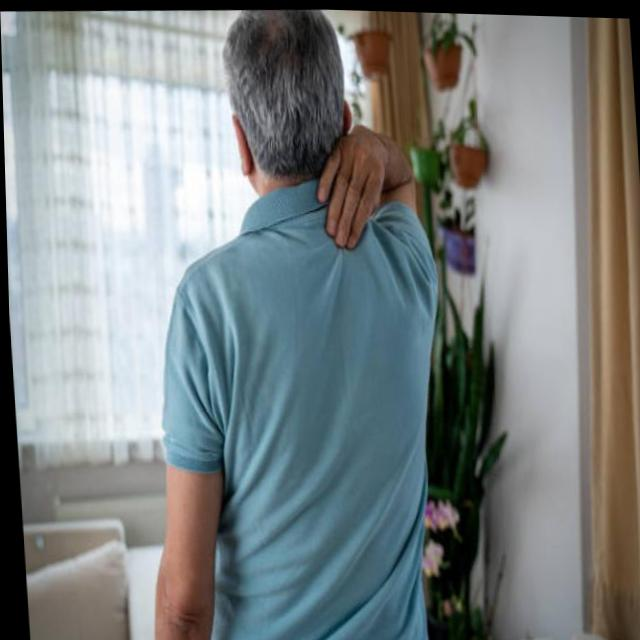no helmet: (211, 5, 353, 189)
